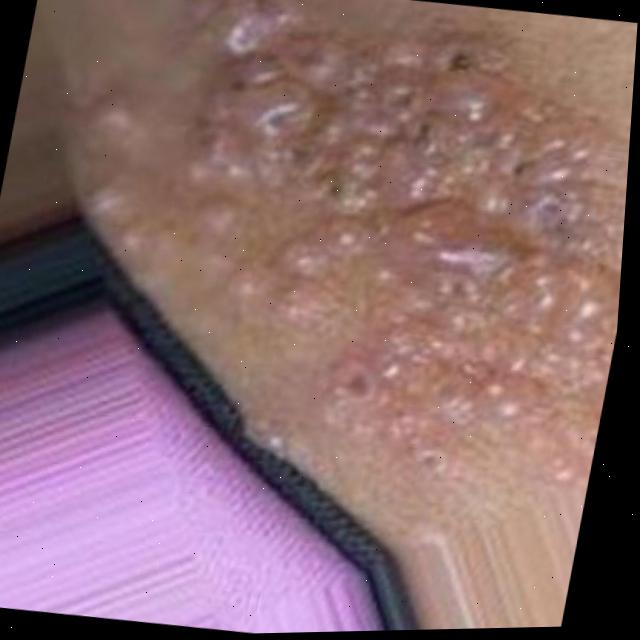Shingles: (95, 0, 640, 472)
